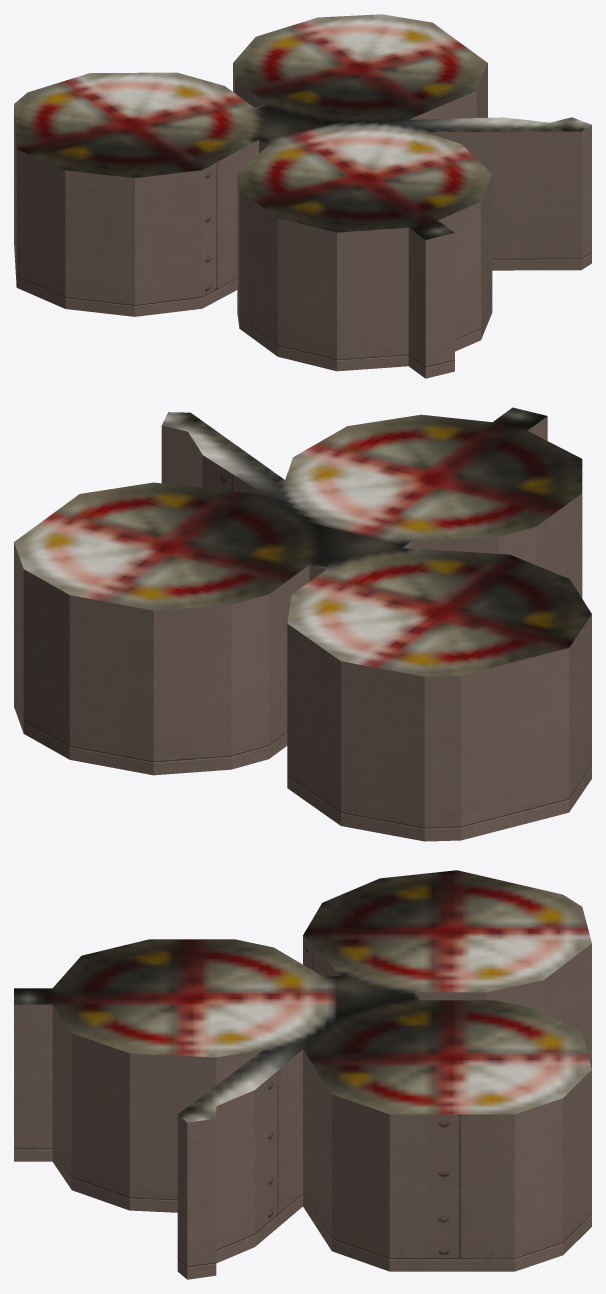
The model's file is fuel_tank_medium_12.glb.
3 renders of one model, top to bottom at view 1: azimuth 30°, elevation 25°; view 2: azimuth 150°, elevation 25°; view 3: azimuth 270°, elevation 25°, orthographic. The views are drawn at different scales.
Visible parts, largest first — view 1: buildings/saxarba/fuel_tanks/fuel_tank_medium_12; view 2: buildings/saxarba/fuel_tanks/fuel_tank_medium_12; view 3: buildings/saxarba/fuel_tanks/fuel_tank_medium_12.
Part boxes in pixels (x1,y1,x2,y2): buildings/saxarba/fuel_tanks/fuel_tank_medium_12: (14, 14, 591, 378); buildings/saxarba/fuel_tanks/fuel_tank_medium_12: (14, 407, 591, 841); buildings/saxarba/fuel_tanks/fuel_tank_medium_12: (14, 870, 591, 1279).
Size of the model in its own units: 62 by 18 by 60.
